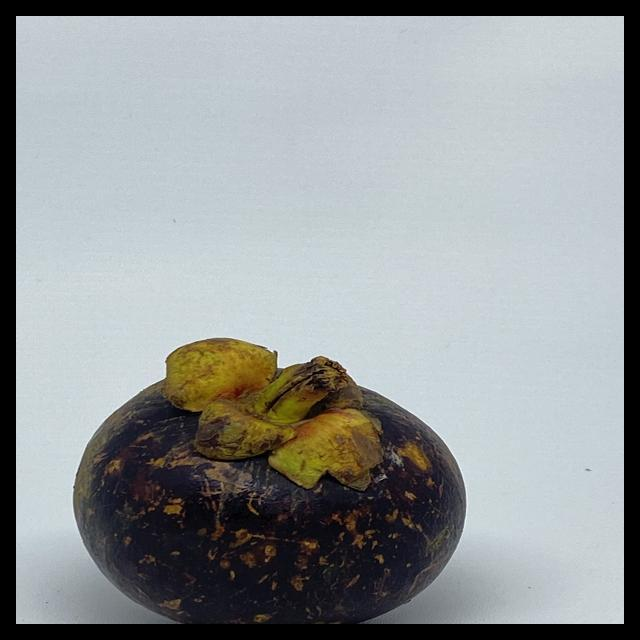mangosteen: (55, 336, 482, 624)
